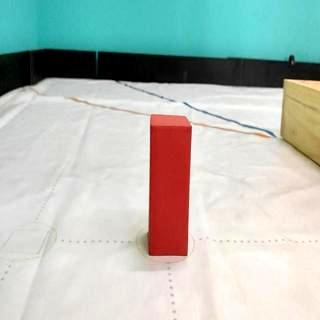redbox: (148, 114, 192, 258)
